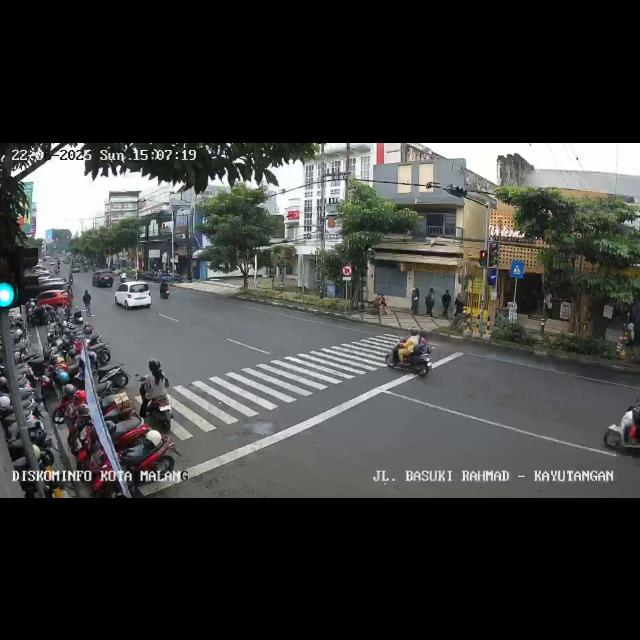car: (30, 276, 72, 318), (114, 280, 152, 312), (92, 268, 116, 286)
motorcycle: (601, 392, 639, 466), (384, 327, 434, 378), (142, 361, 172, 431), (160, 275, 170, 299)
person: (81, 290, 92, 318)
